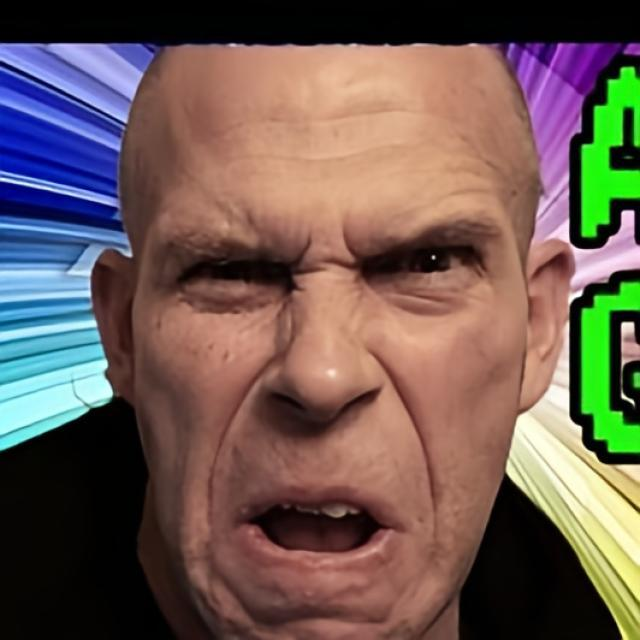disgust: (121, 44, 544, 640)
